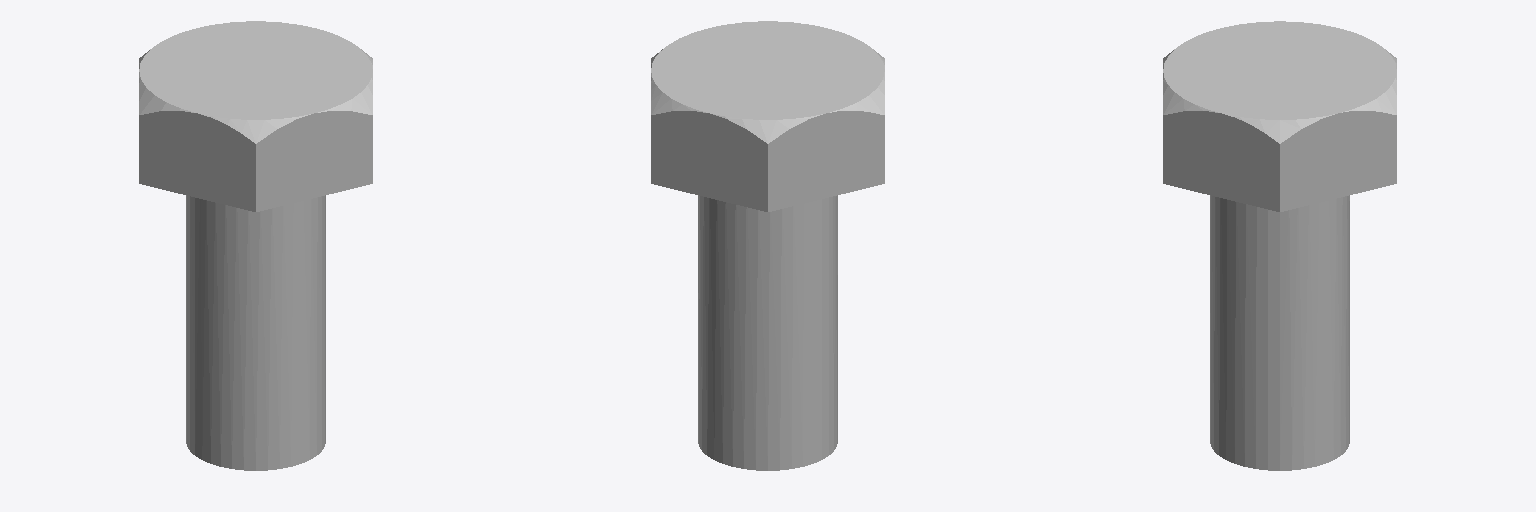
Rendered from Hollow Bolt M6 3.obj.
The picture shows the model from 3 angles: view 1: azimuth 30°, elevation 25°; view 2: azimuth 150°, elevation 25°; view 3: azimuth 270°, elevation 25°; orthographic projection.
Parts seen in each view (by area): view 1: Hollow Bolt M6 3.5.0; view 2: Hollow Bolt M6 3.5.0; view 3: Hollow Bolt M6 3.5.0.
Boxes of the visible parts, x1=… form: Hollow Bolt M6 3.5.0: x1=139, y1=21, x2=372, y2=470; Hollow Bolt M6 3.5.0: x1=651, y1=21, x2=884, y2=470; Hollow Bolt M6 3.5.0: x1=1163, y1=21, x2=1396, y2=470.
Bounding box in the file's own units: 11.55 × 17.5 × 10.